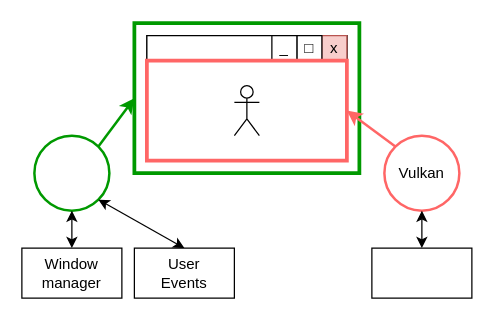
The diagram is 494 pixels wide and 320 high, and some of its shapes have lost their labels. Each missing label, with the box of its shape:
GPU: (371, 247, 472, 298)
SDL2: (32, 134, 110, 211)
